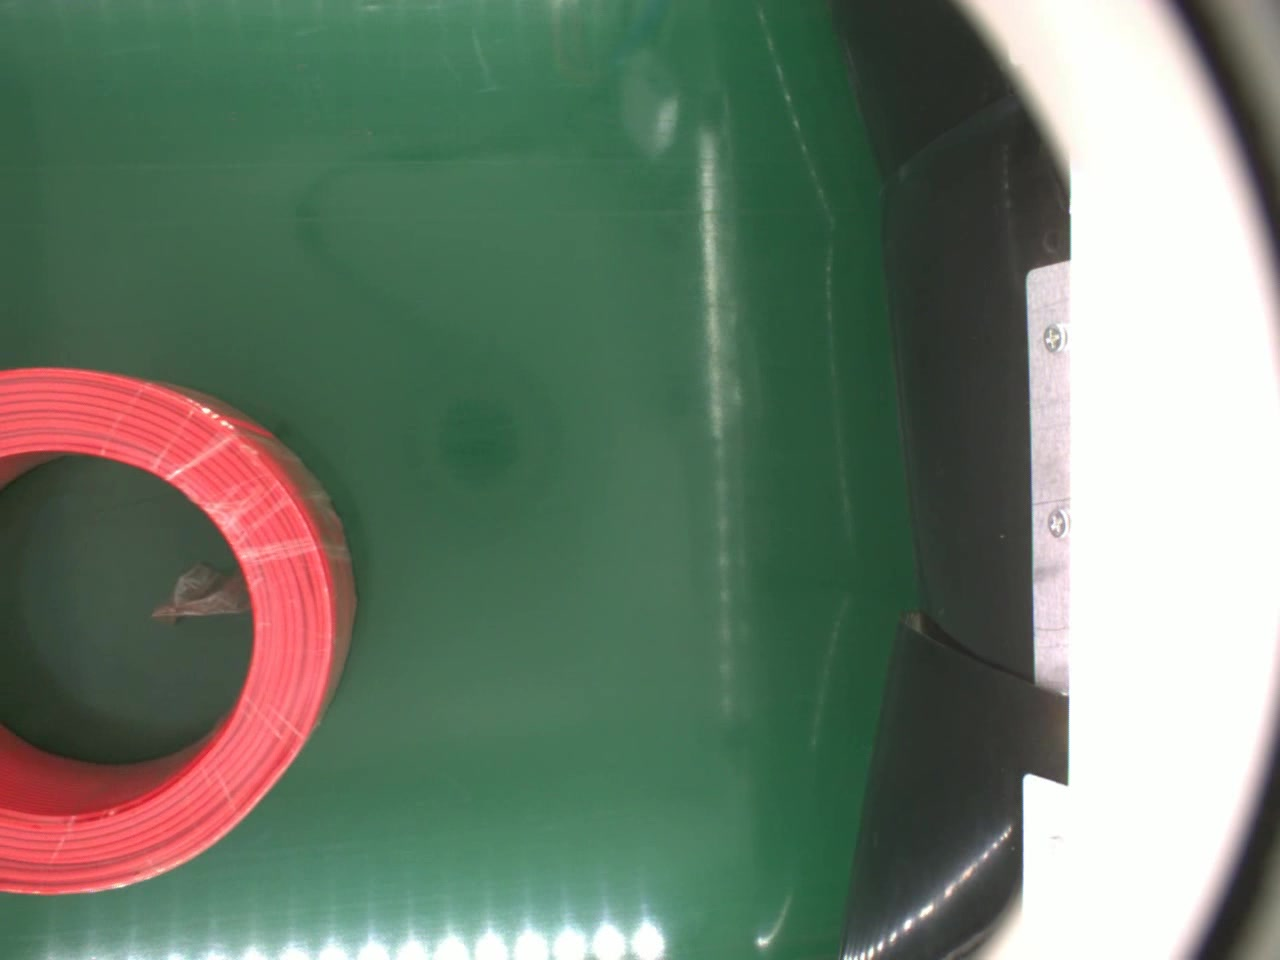red: (0, 365, 358, 901)
